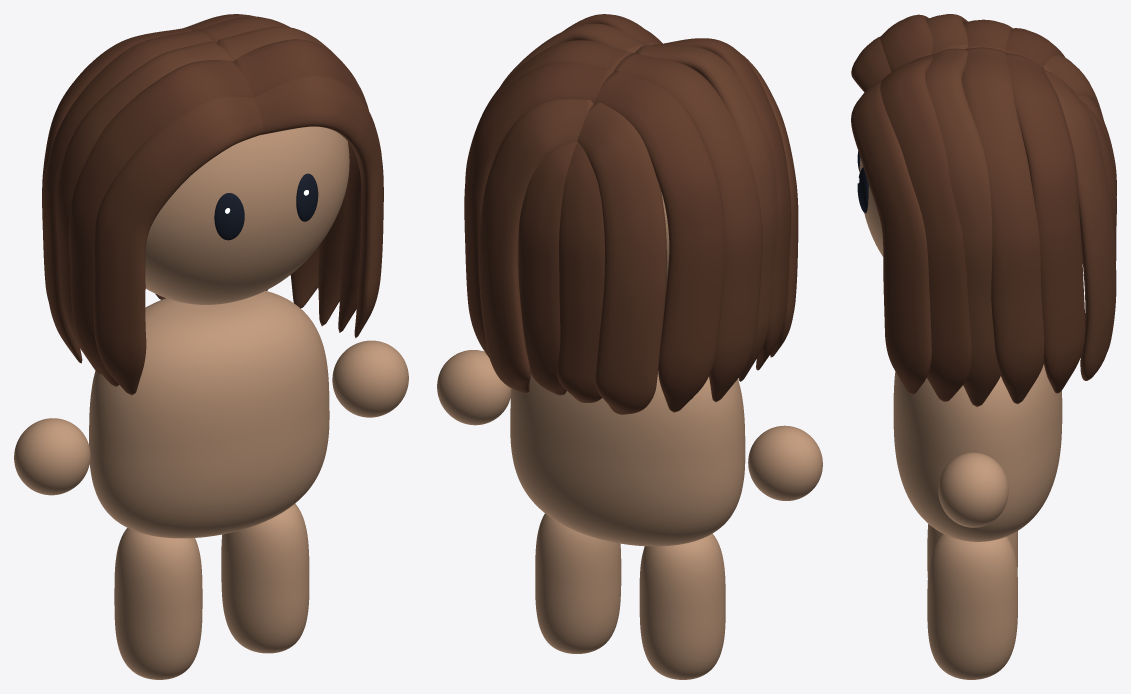
The model's file is Feminine-skin2.glb.
3 views of the same model, side by side, from view 1: azimuth 30°, elevation 25°; view 2: azimuth 150°, elevation 25°; view 3: azimuth 270°, elevation 25° (orthographic). The views are drawn at different scales.
Visible parts, largest first — view 1: Skin / compact torso with skirt outline, Skin / soft oval head, Hair / Straight -1 0, Hair / Straight -1 1, Skin / leg -1, Skin / leg 1, Hair / Straight 1 0, Hair / Straight 1 1, Hair / Straight -1 2, Hair / Straight -1 3, Skin / hand 1, Skin / hand -1 (+5 smaller); view 2: Skin / compact torso with skirt outline, Hair / Straight -1 4, Hair / Straight -1 5, Hair / Straight -1 3, Hair / Straight 1 5, Skin / leg -1, Hair / Straight -1 6, Skin / leg 1, Hair / Straight 1 6, Hair / Straight 1 4, Hair / Straight -1 2, Hair / Straight -1 1 (+6 smaller); view 3: Skin / compact torso with skirt outline, Hair / Straight 1 3, Hair / Straight 1 4, Hair / Straight 1 1, Hair / Straight 1 0, Skin / leg 1, Hair / Straight 1 2, Hair / Straight 1 5, Skin / hand 1, Hair / Straight -1 1, Hair / Straight -1 0, Hair / Straight -1 4 (+7 smaller).
Boxes of the visible parts, x1=… form: Skin / compact torso with skirt outline: x1=89, y1=291, x2=329, y2=538; Skin / soft oval head: x1=145, y1=126, x2=349, y2=304; Hair / Straight -1 0: x1=93, y1=96, x2=263, y2=395; Hair / Straight -1 1: x1=69, y1=60, x2=252, y2=386; Skin / leg -1: x1=114, y1=528, x2=202, y2=679; Skin / leg 1: x1=221, y1=503, x2=309, y2=653; Hair / Straight 1 0: x1=253, y1=75, x2=383, y2=338; Hair / Straight 1 1: x1=233, y1=39, x2=368, y2=332; Hair / Straight -1 2: x1=56, y1=41, x2=233, y2=374; Hair / Straight -1 3: x1=42, y1=30, x2=214, y2=363; Skin / hand 1: x1=332, y1=340, x2=408, y2=417; Skin / hand -1: x1=14, y1=418, x2=90, y2=495; Skin / compact torso with skirt outline: x1=510, y1=371, x2=745, y2=546; Hair / Straight -1 4: x1=594, y1=71, x2=724, y2=412; Hair / Straight -1 5: x1=577, y1=101, x2=666, y2=414; Hair / Straight -1 3: x1=613, y1=53, x2=762, y2=402; Hair / Straight 1 5: x1=478, y1=99, x2=593, y2=393; Skin / leg -1: x1=639, y1=533, x2=725, y2=679; Hair / Straight -1 6: x1=557, y1=142, x2=604, y2=402; Skin / leg 1: x1=535, y1=513, x2=621, y2=653; Hair / Straight 1 6: x1=518, y1=141, x2=577, y2=395; Hair / Straight 1 4: x1=464, y1=62, x2=612, y2=357; Hair / Straight -1 2: x1=635, y1=45, x2=777, y2=381; Hair / Straight -1 1: x1=653, y1=38, x2=791, y2=370; Skin / compact torso with skirt outline: x1=893, y1=364, x2=1062, y2=541; Hair / Straight 1 3: x1=962, y1=47, x2=1044, y2=404; Hair / Straight 1 4: x1=1005, y1=53, x2=1085, y2=393; Hair / Straight 1 1: x1=880, y1=55, x2=971, y2=401; Hair / Straight 1 0: x1=851, y1=79, x2=931, y2=394; Skin / leg 1: x1=927, y1=534, x2=1017, y2=679; Hair / Straight 1 2: x1=926, y1=48, x2=1000, y2=407; Hair / Straight 1 5: x1=1044, y1=70, x2=1116, y2=380; Skin / hand 1: x1=938, y1=452, x2=1008, y2=527; Hair / Straight -1 1: x1=880, y1=14, x2=932, y2=71; Hair / Straight -1 0: x1=851, y1=36, x2=891, y2=92; Hair / Straight -1 4: x1=1005, y1=28, x2=1082, y2=263.
Bounding box in the file's own units: 1.49 × 2.31 × 0.9206.
